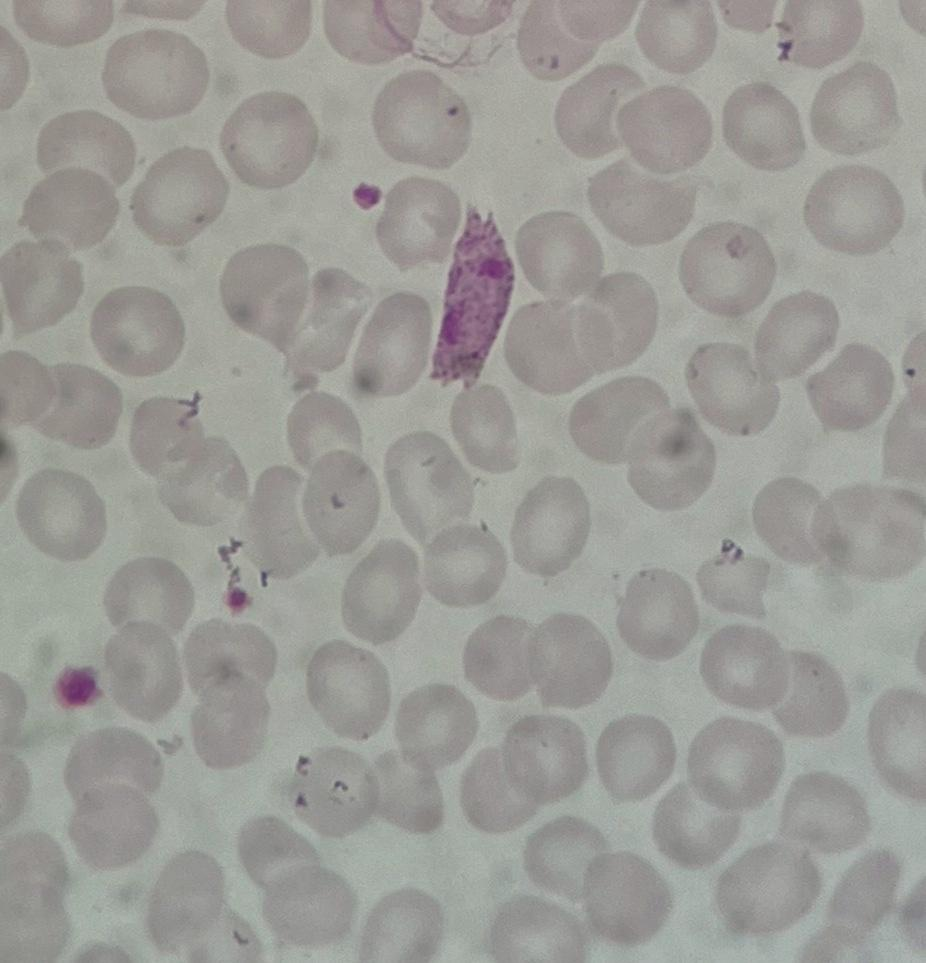Infected: (430, 197, 522, 387)
Uninfected: (812, 485, 922, 583), (218, 242, 311, 352), (618, 405, 716, 508), (381, 430, 471, 540), (370, 70, 471, 168), (284, 268, 373, 379), (129, 149, 229, 247), (501, 297, 602, 394), (102, 28, 209, 119), (682, 715, 784, 810), (550, 63, 647, 162), (715, 840, 816, 935), (566, 375, 670, 467), (242, 463, 324, 579), (678, 220, 778, 315), (253, 856, 355, 948), (802, 163, 904, 255), (219, 92, 318, 186), (300, 449, 385, 558), (144, 851, 231, 957), (684, 342, 782, 435), (63, 729, 162, 821), (612, 83, 711, 175), (586, 161, 694, 245), (88, 284, 184, 378), (19, 165, 120, 254), (98, 621, 186, 723), (304, 639, 393, 738), (808, 63, 902, 156), (349, 292, 433, 396), (151, 438, 247, 529), (614, 561, 697, 666), (339, 540, 423, 643), (179, 616, 276, 705), (14, 469, 106, 562), (287, 744, 381, 835), (806, 339, 897, 432), (580, 850, 670, 944), (67, 778, 162, 867), (33, 360, 125, 450), (509, 479, 592, 578), (524, 614, 611, 708), (34, 107, 134, 186), (462, 743, 549, 833), (506, 715, 593, 805), (698, 624, 790, 709), (418, 523, 507, 610), (512, 212, 601, 299), (2, 238, 84, 332), (720, 81, 806, 170), (752, 293, 837, 383), (378, 179, 461, 271), (194, 673, 270, 772), (751, 476, 833, 567), (583, 271, 660, 366), (521, 815, 607, 899), (128, 391, 211, 478), (593, 714, 676, 800), (394, 682, 476, 769), (818, 850, 898, 939), (102, 555, 193, 633), (776, 771, 864, 851), (364, 749, 446, 833), (652, 781, 737, 861), (460, 616, 538, 703), (448, 383, 521, 473), (767, 653, 846, 736), (490, 894, 586, 961), (284, 393, 365, 472), (693, 542, 772, 621), (634, 1, 717, 73), (237, 815, 318, 888), (356, 892, 439, 960)
